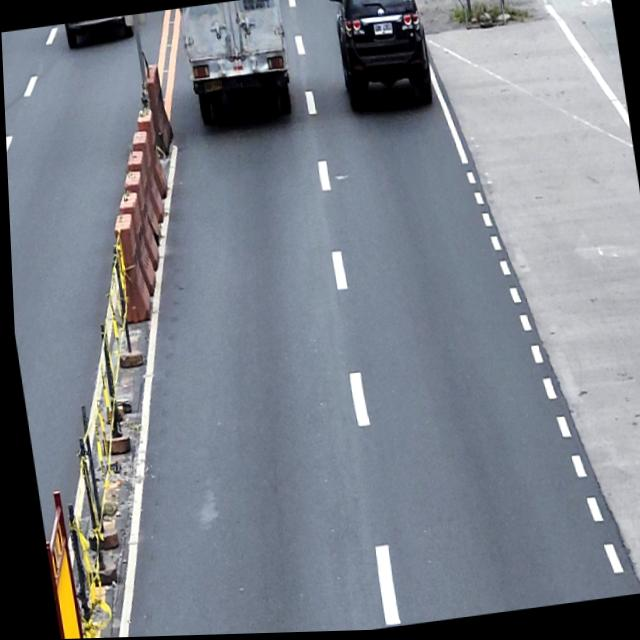Car: (325, 0, 437, 121)
License-Plate: (372, 22, 393, 38), (201, 80, 222, 94)
Truck: (178, 0, 295, 127)
